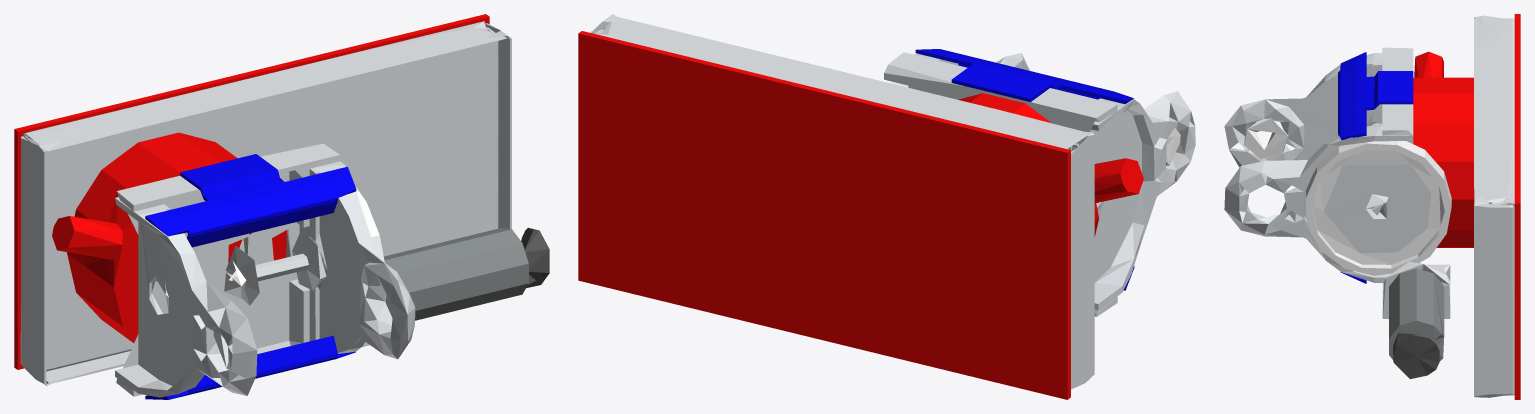
File: RLEG_LINK5_mesh.dae
3 renders of one model, left to right at view 1: azimuth 30°, elevation 25°; view 2: azimuth 150°, elevation 25°; view 3: azimuth 270°, elevation 25°, orthographic. The views are drawn at different scales.
Visible parts, largest first — view 1: RLEG_LINK5 (×12); view 2: RLEG_LINK5 (×7); view 3: RLEG_LINK5 (×12).
Boxes of the visible parts, bbox=[...] form: RLEG_LINK5 (×12): bbox=[14, 14, 549, 399]; RLEG_LINK5 (×7): bbox=[578, 14, 1195, 399]; RLEG_LINK5 (×12): bbox=[1224, 14, 1520, 399].
Size of the model in its own units: 0.2384 by 0.112 by 0.1531.
